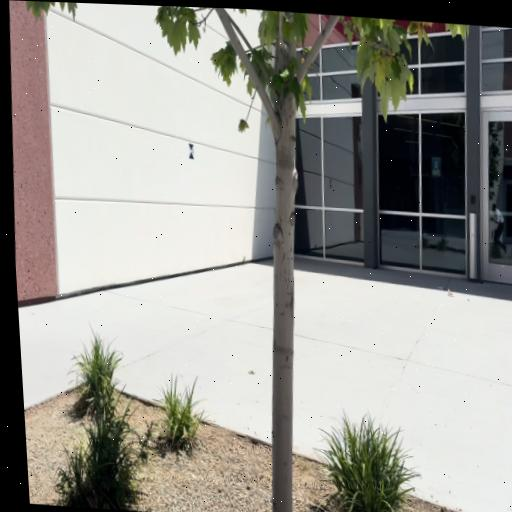target4: (188, 142, 195, 159)
